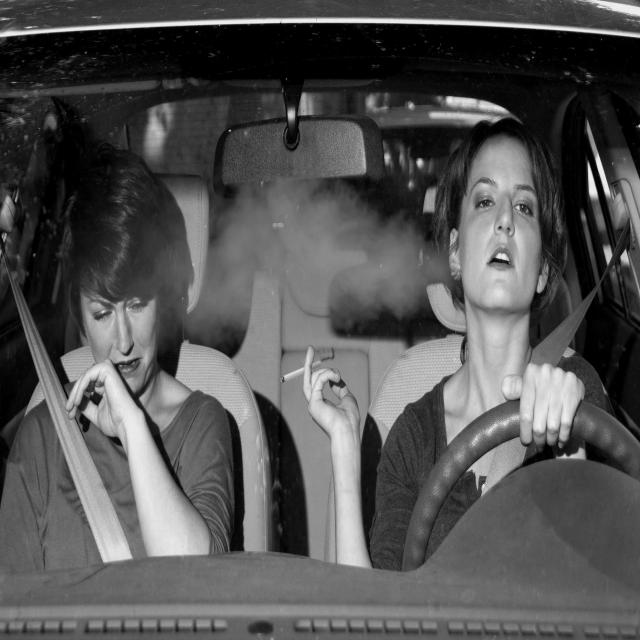Cigarette: (275, 353, 335, 388)
Seatbelt: (12, 324, 132, 568), (538, 256, 605, 374)
